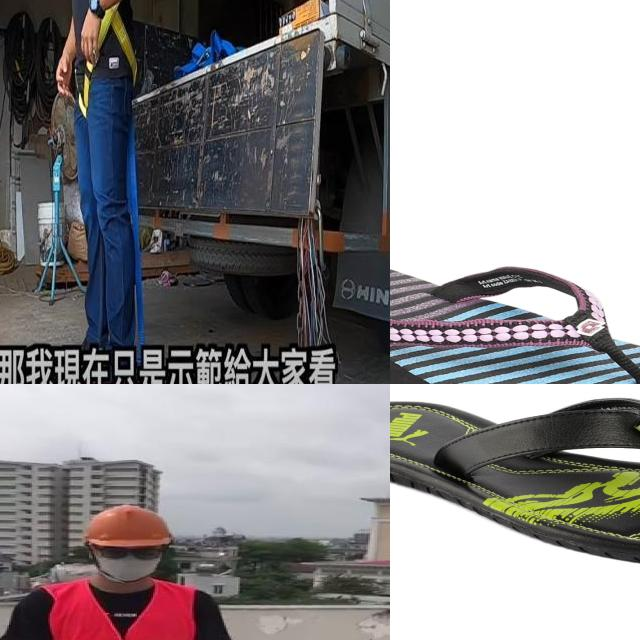Harness: (71, 0, 140, 121)
Sandals: (390, 395, 640, 570), (390, 255, 640, 384)
head_helmet: (81, 504, 176, 548)
person: (0, 501, 245, 640)
vest: (42, 584, 192, 640)
